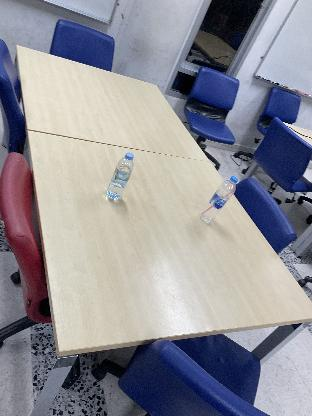Plastic Bottle: (198, 175, 238, 225), (107, 152, 135, 202)
